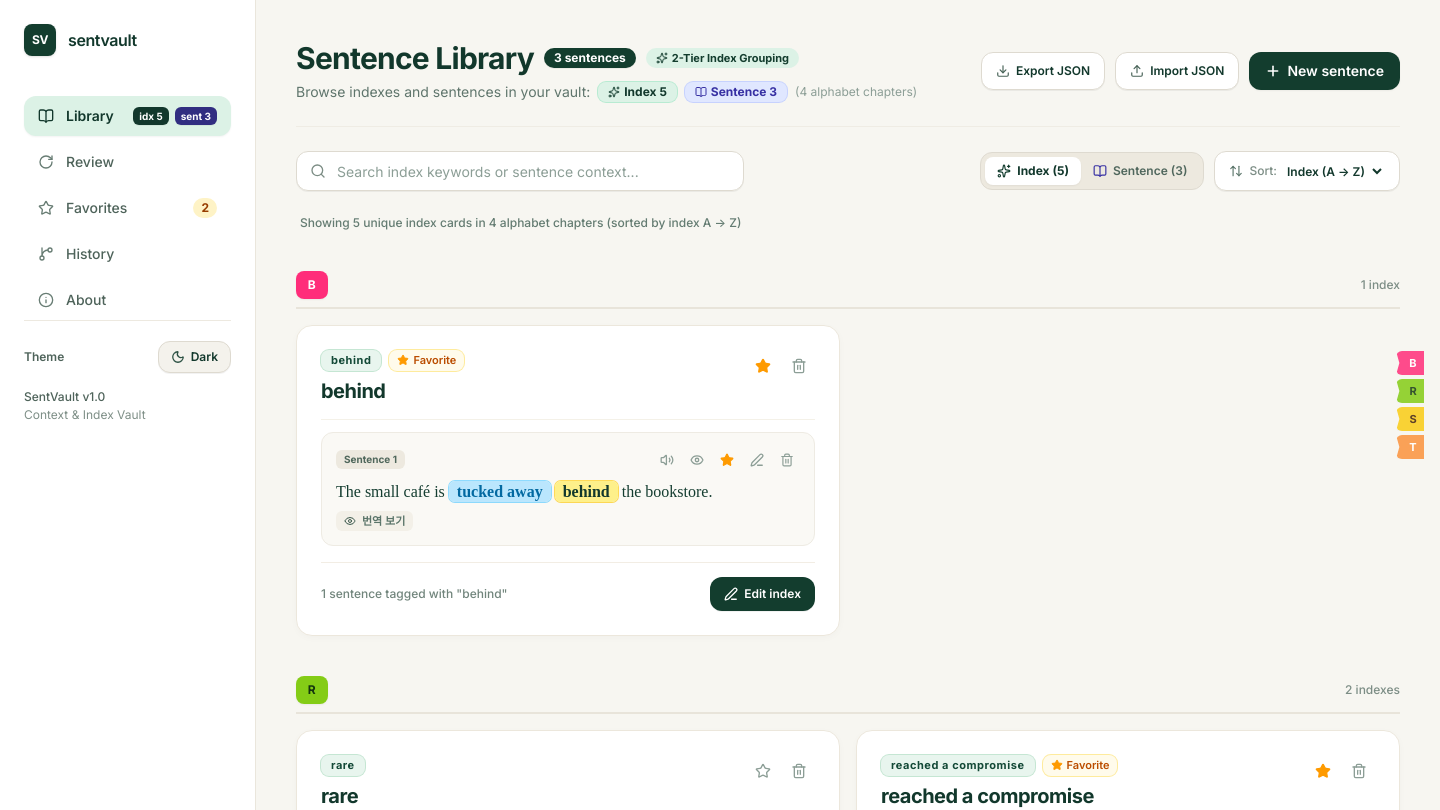
Test case: Sentence Note - Multi-Index Management › persists reviewed card state so re-entering review does not reset completed cards
The width and height of the screenshot is (1440, 810).
Click the button "Review" at (128, 162), box left=24, top=142, right=231, bottom=182
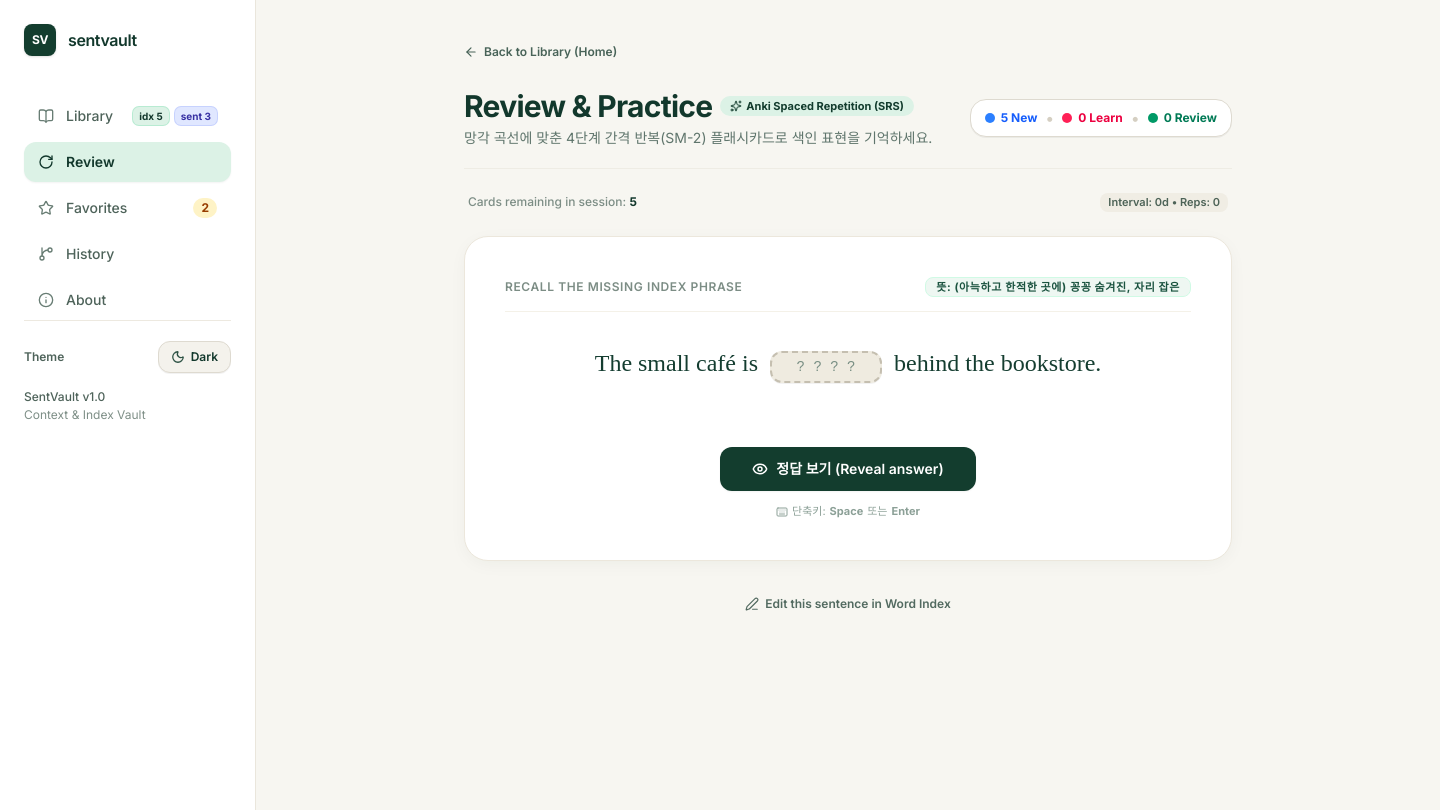
Now the text "5 New" is shown, box left=1001, top=110, right=1037, bottom=126
Click the button "정답 보기 (Reveal answer)" at (848, 469), box left=720, top=447, right=976, bottom=491
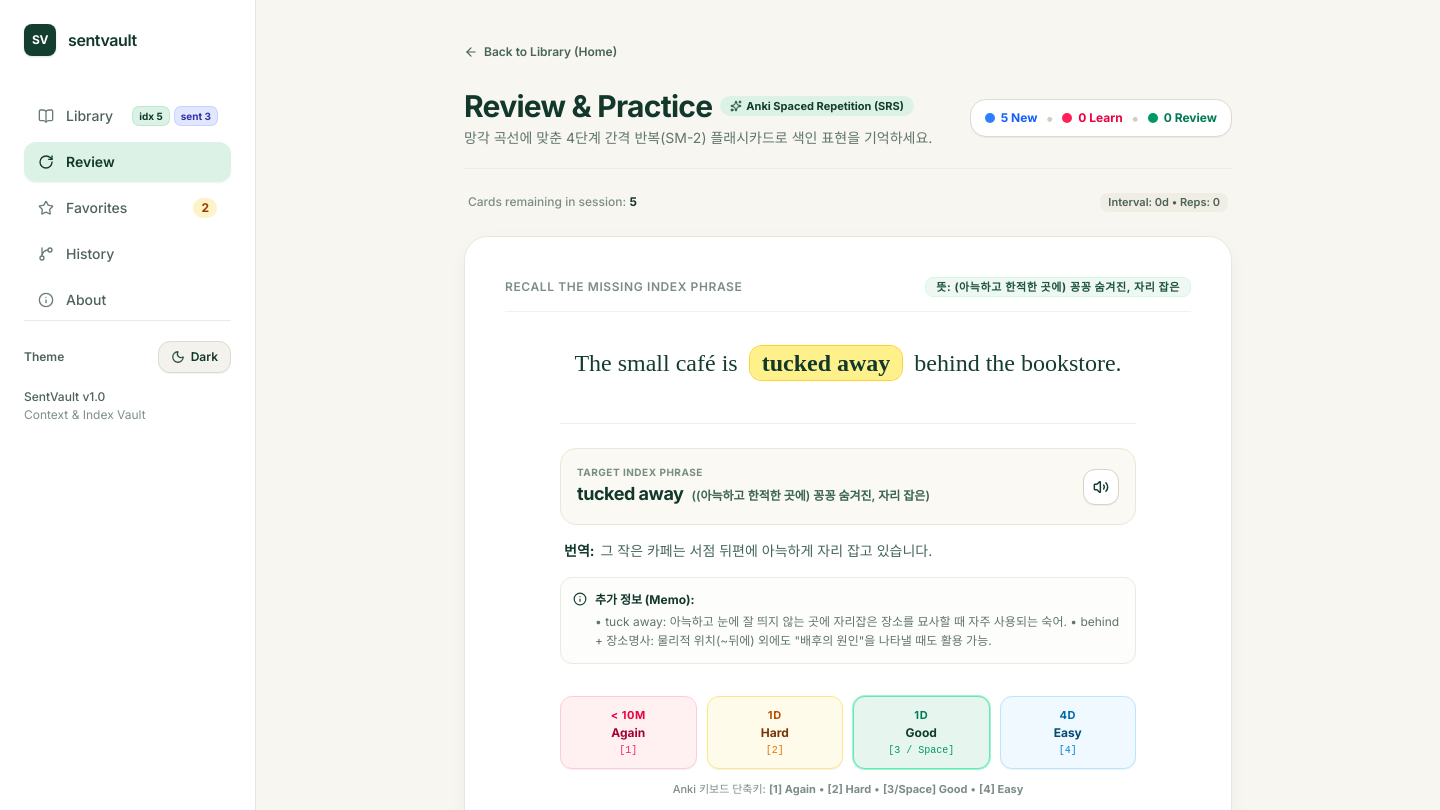
Click the button "1d Good [3 / Space]" at (921, 733), box left=853, top=696, right=990, bottom=769
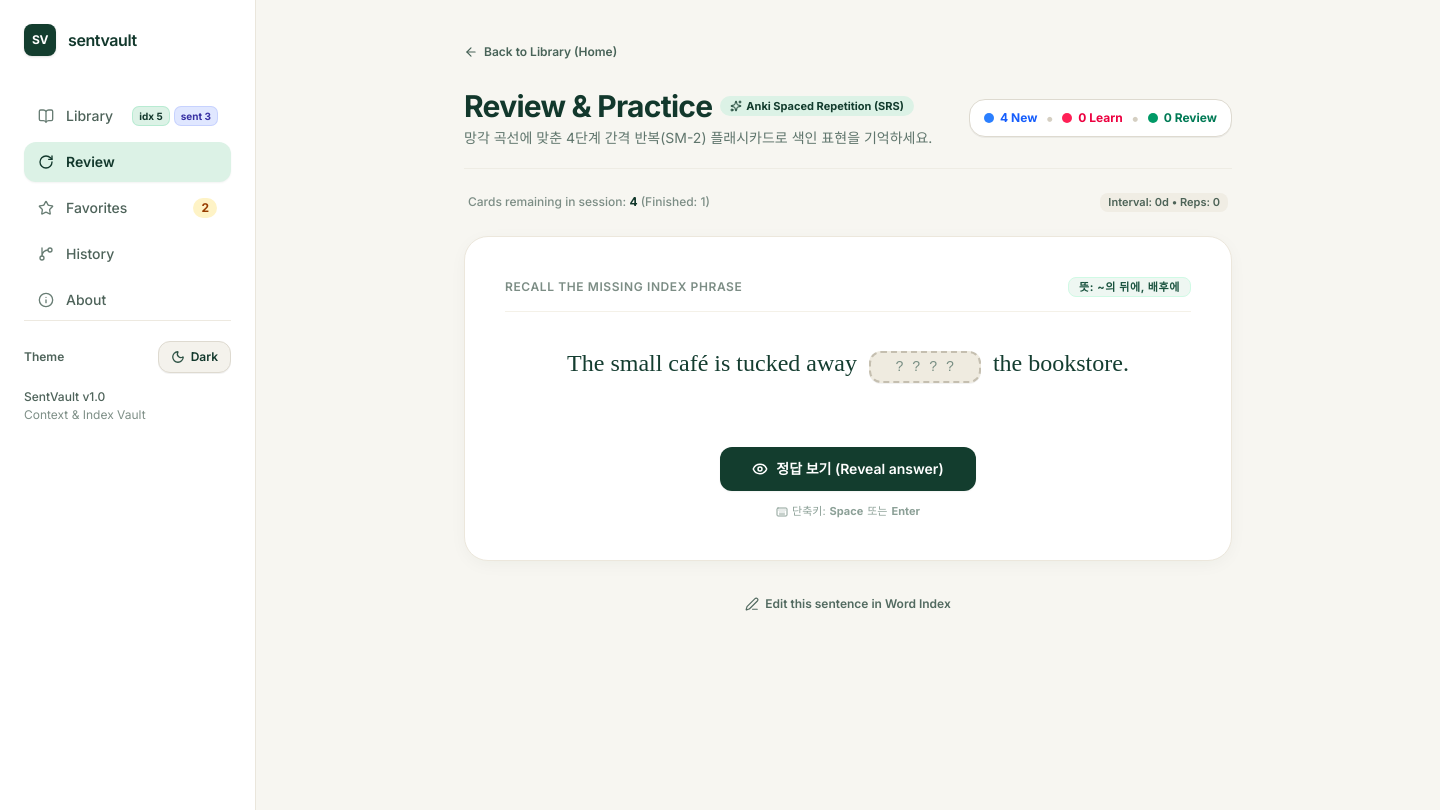
Now the text "4 New" is shown, box left=1000, top=110, right=1037, bottom=126
Click the button "Library idx 5 sent 3" at (128, 116), box left=24, top=96, right=231, bottom=136
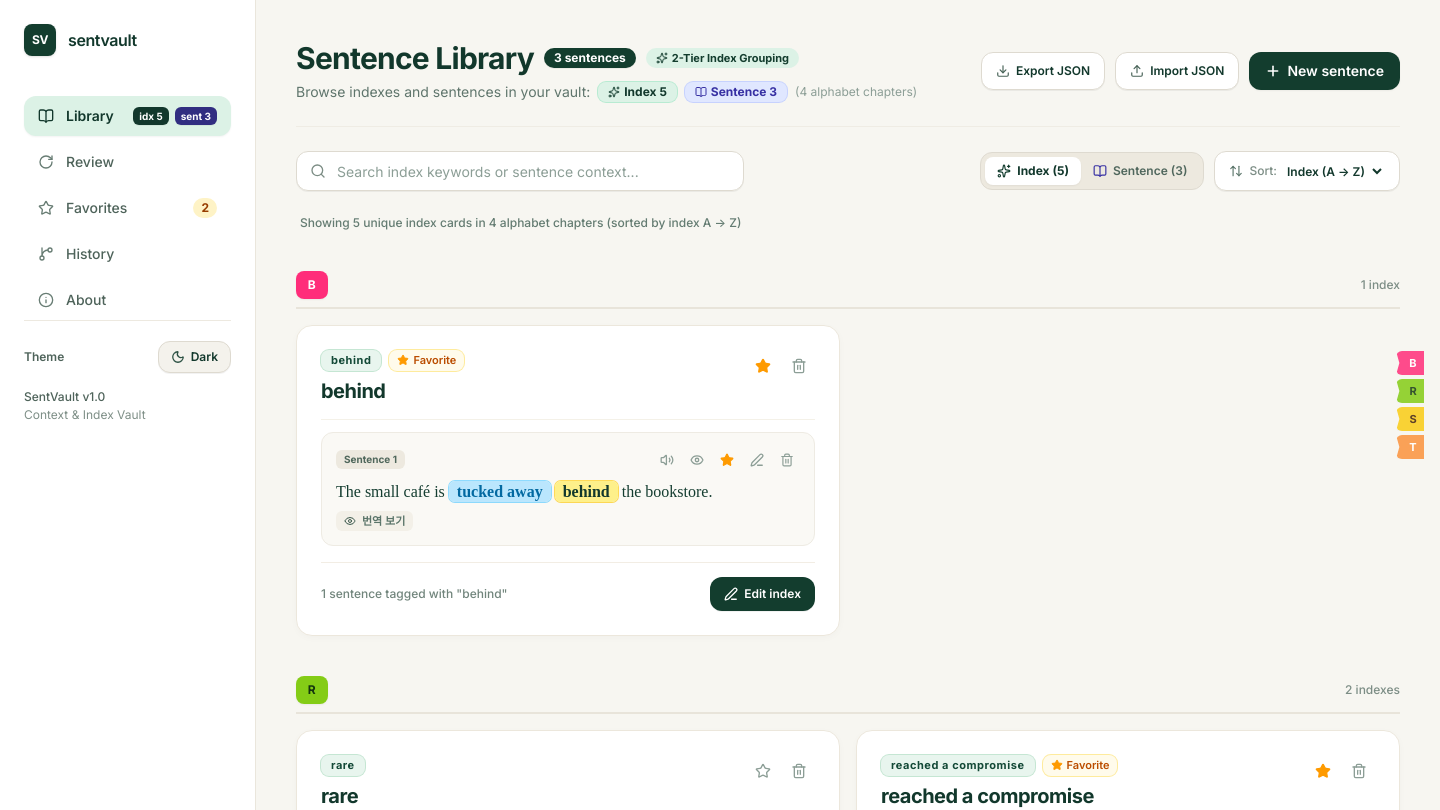
Now the heading "Sentence Library" is shown, box left=296, top=40, right=534, bottom=76
Click the button "Review" at (128, 162), box left=24, top=142, right=231, bottom=182
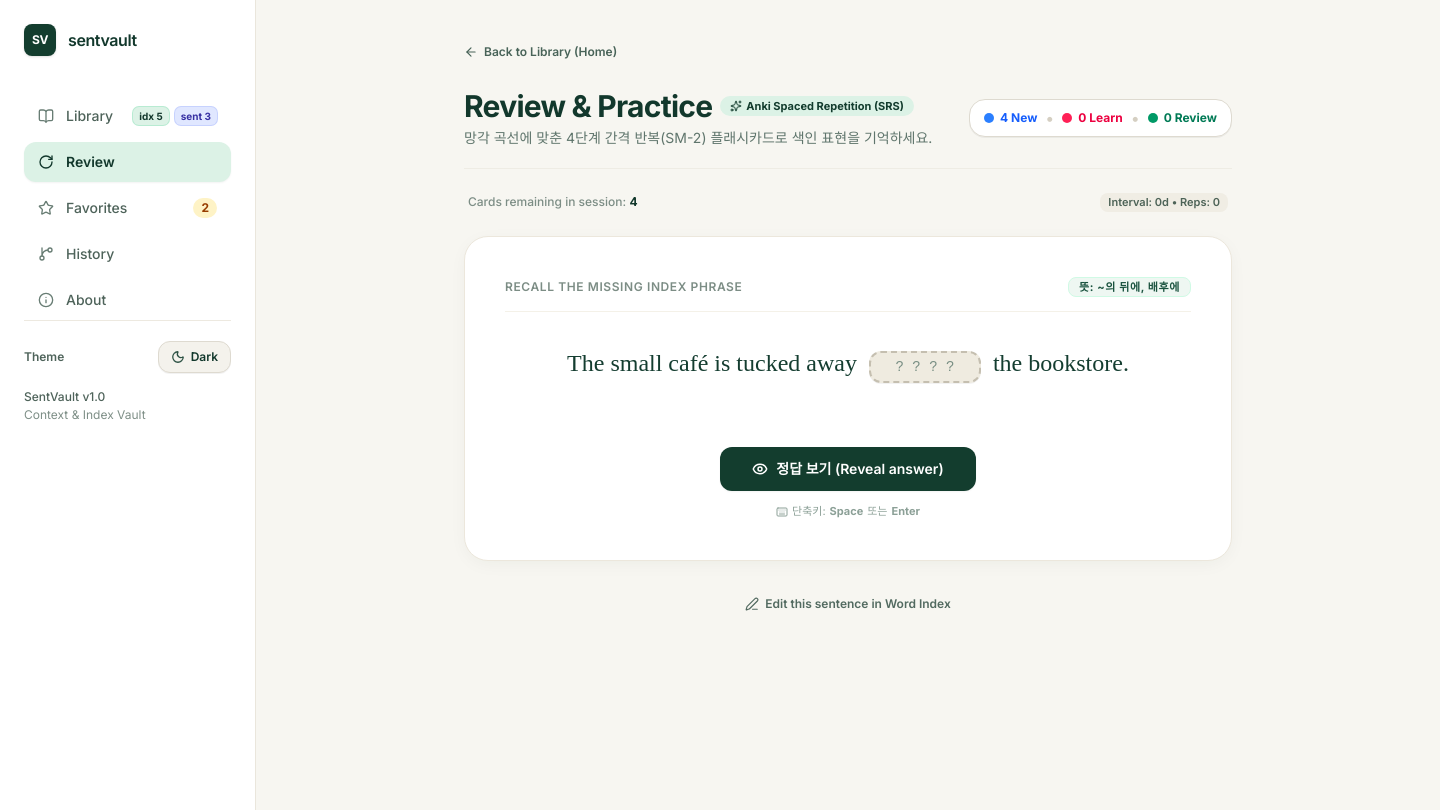
Now the text "4 New" is shown, box left=1000, top=110, right=1037, bottom=126
